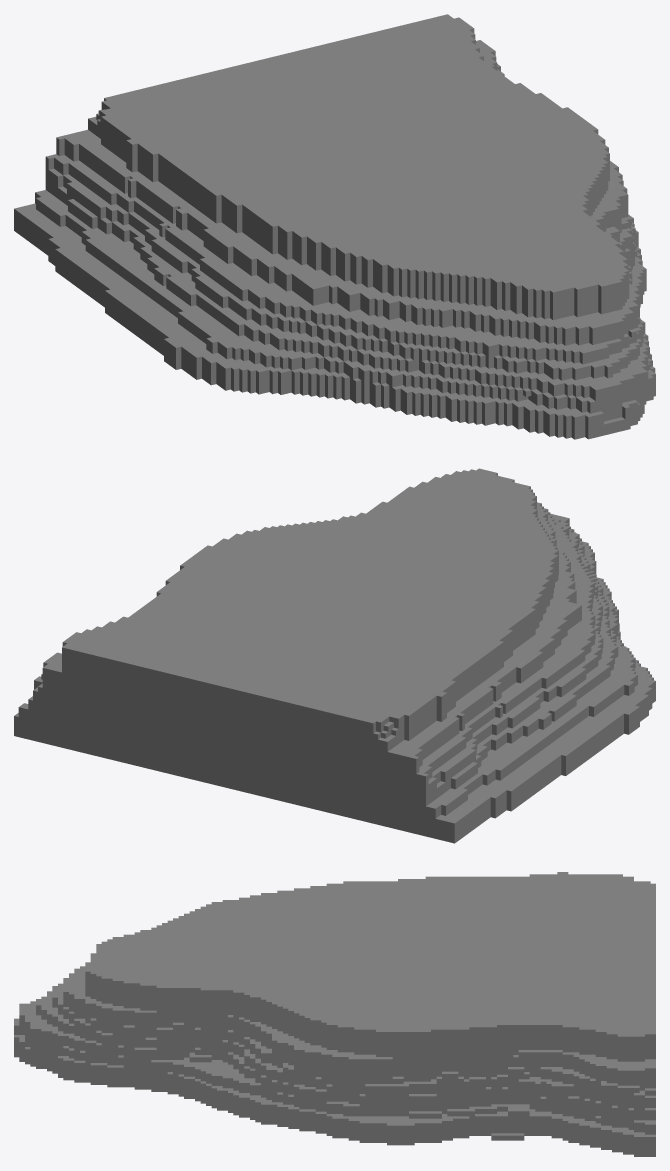
The model's file is Main Island-0.obj.
3 renders of one model, top to bottom at view 1: azimuth 30°, elevation 25°; view 2: azimuth 150°, elevation 25°; view 3: azimuth 270°, elevation 25°, orthographic. The views are drawn at different scales.
Parts seen in each view (by area): view 1: Main Island-0; view 2: Main Island-0; view 3: Main Island-0.
Part boxes in pixels (x1,y1,x2,y2): Main Island-0: (14,14,655,439); Main Island-0: (14,468,655,843); Main Island-0: (14,872,655,1156).
Size of the model in its own units: 96 by 20 by 117.
1 material, 1 textured.
